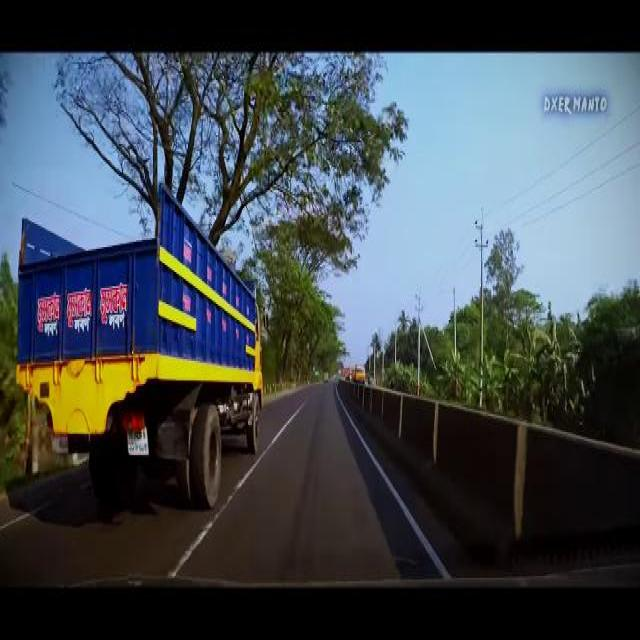truck: (14, 179, 267, 521), (350, 361, 365, 380)
